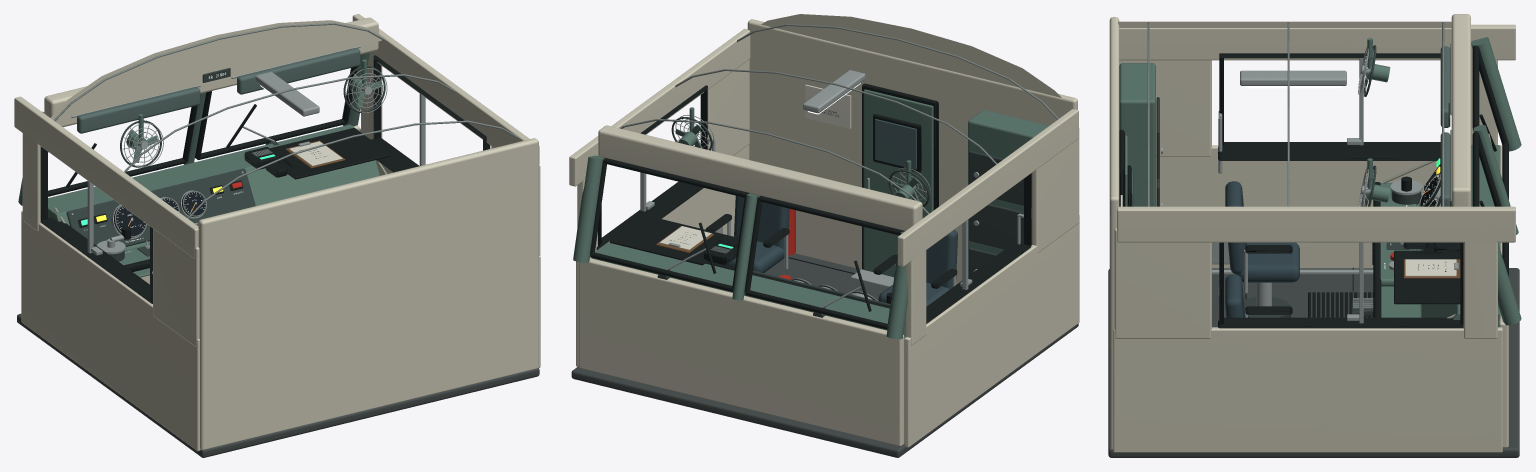
Rendered from memu_cab.glb.
3 renders of one model, left to right at view 1: azimuth 30°, elevation 25°; view 2: azimuth 150°, elevation 25°; view 3: azimuth 270°, elevation 25°, orthographic. The views are drawn at different scales.
Visible parts, largest first — view 1: Interior_cab_Cream, Interior_cab_Rubber, Interior_cab_Desk, Interior_cab_Panel, Interior_cab_Steel, Interior_cab_Visor, Interior_cab_Floor, Interior_cab_Trim, Interior_cab_Dial, Interior_cab_Paper; view 2: Interior_cab_Cream, Interior_cab_Desk, Interior_cab_Rubber, Interior_cab_Floor, Interior_cab_Panel, Interior_cab_Steel, Interior_cab_Seat, Interior_cab_Trim, Interior_cab_Obscure, Interior_cab_Paper; view 3: Interior_cab_Cream, Interior_cab_Rubber, Interior_cab_Desk, Interior_cab_Floor, Interior_cab_Steel, Interior_cab_Seat, Interior_cab_Panel, Interior_cab_Trim, Interior_cab_Visor, Interior_cab_Paper.
Boxes of the visible parts, x1,y1,x2,y2 form: Interior_cab_Cream: (14, 14, 540, 451); Interior_cab_Rubber: (40, 55, 490, 303); Interior_cab_Desk: (18, 52, 381, 277); Interior_cab_Panel: (66, 66, 385, 261); Interior_cab_Steel: (71, 46, 425, 274); Interior_cab_Visor: (77, 48, 360, 133); Interior_cab_Floor: (17, 313, 539, 457); Interior_cab_Trim: (54, 23, 519, 237); Interior_cab_Dial: (116, 192, 205, 236); Interior_cab_Paper: (289, 141, 342, 165); Interior_cab_Cream: (569, 14, 1079, 447); Interior_cab_Desk: (573, 89, 1048, 339); Interior_cab_Rubber: (590, 83, 1031, 329); Interior_cab_Floor: (571, 253, 1078, 457); Interior_cab_Panel: (657, 117, 1031, 317); Interior_cab_Steel: (640, 70, 1031, 307); Interior_cab_Seat: (727, 195, 957, 306); Interior_cab_Trim: (620, 24, 1058, 300); Interior_cab_Obscure: (875, 119, 916, 169); Interior_cab_Paper: (659, 84, 851, 249); Interior_cab_Cream: (1109, 14, 1515, 452); Interior_cab_Rubber: (1119, 45, 1508, 328); Interior_cab_Desk: (1119, 37, 1521, 327); Interior_cab_Floor: (1108, 268, 1519, 457); Interior_cab_Steel: (1161, 43, 1491, 323); Interior_cab_Seat: (1225, 181, 1299, 317); Interior_cab_Panel: (1156, 45, 1451, 317); Interior_cab_Trim: (1147, 22, 1474, 206); Interior_cab_Visor: (1440, 46, 1450, 206); Interior_cab_Paper: (1120, 195, 1456, 276).
Size of the model in its own units: 3.62 by 2.69 by 3.39.
